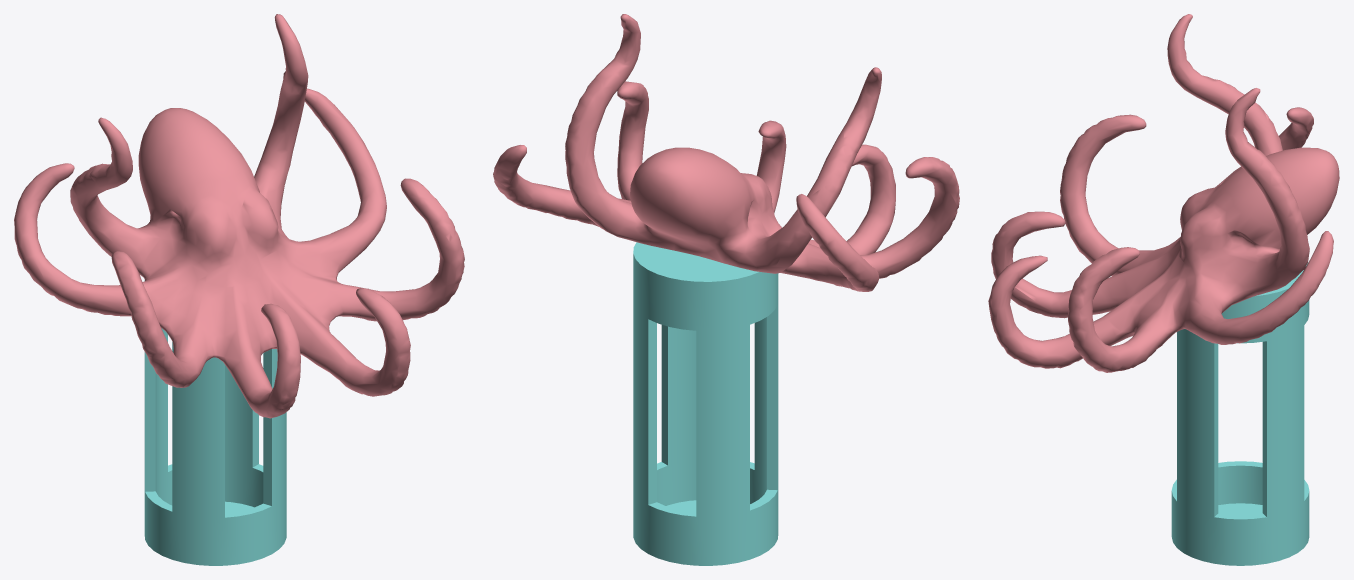
Rendered from ahtapot.fbx.
3 renders of one model, left to right at view 1: azimuth 30°, elevation 25°; view 2: azimuth 150°, elevation 25°; view 3: azimuth 270°, elevation 25°, orthographic. The views are drawn at different scales.
Parts seen in each view (by area): view 1: ahtapot, Cylinder.002; view 2: ahtapot, Cylinder.002; view 3: ahtapot, Cylinder.002.
Boxes of the visible parts, bbox=[...] form: ahtapot: bbox=[14, 14, 464, 418]; Cylinder.002: bbox=[144, 280, 286, 565]; ahtapot: bbox=[493, 14, 959, 291]; Cylinder.002: bbox=[633, 242, 778, 565]; ahtapot: bbox=[988, 14, 1339, 372]; Cylinder.002: bbox=[1171, 262, 1309, 565].
Size of the model in its own units: 172 by 230 by 152.
